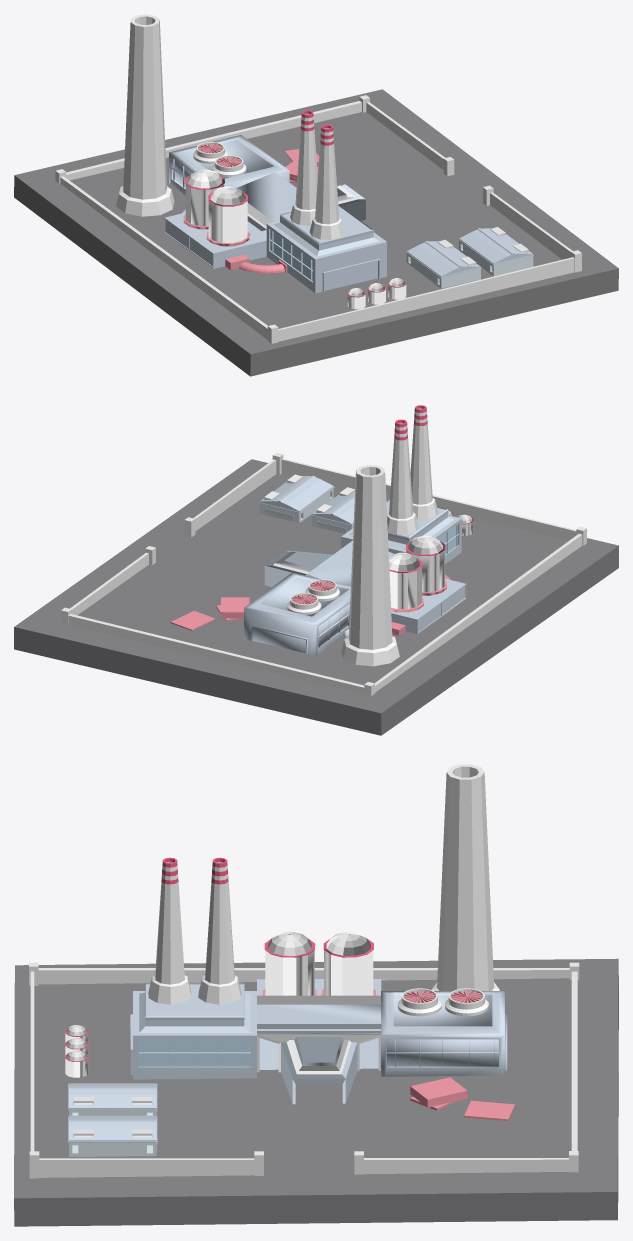
Rendered from factory.glb.
3 views of the same model, one above another, from view 1: azimuth 30°, elevation 25°; view 2: azimuth 150°, elevation 25°; view 3: azimuth 270°, elevation 25° (orthographic). The views are drawn at different scales.
Visible parts, largest first — view 1: Tank_4; view 2: Tank_4; view 3: Tank_4.
Part boxes in pixels (x1,y1,x2,y2): Tank_4: (14, 14, 618, 376); Tank_4: (14, 405, 618, 735); Tank_4: (14, 764, 618, 1226).
Bounding box in the file's own units: 12.48 × 6.87 × 13.92.
